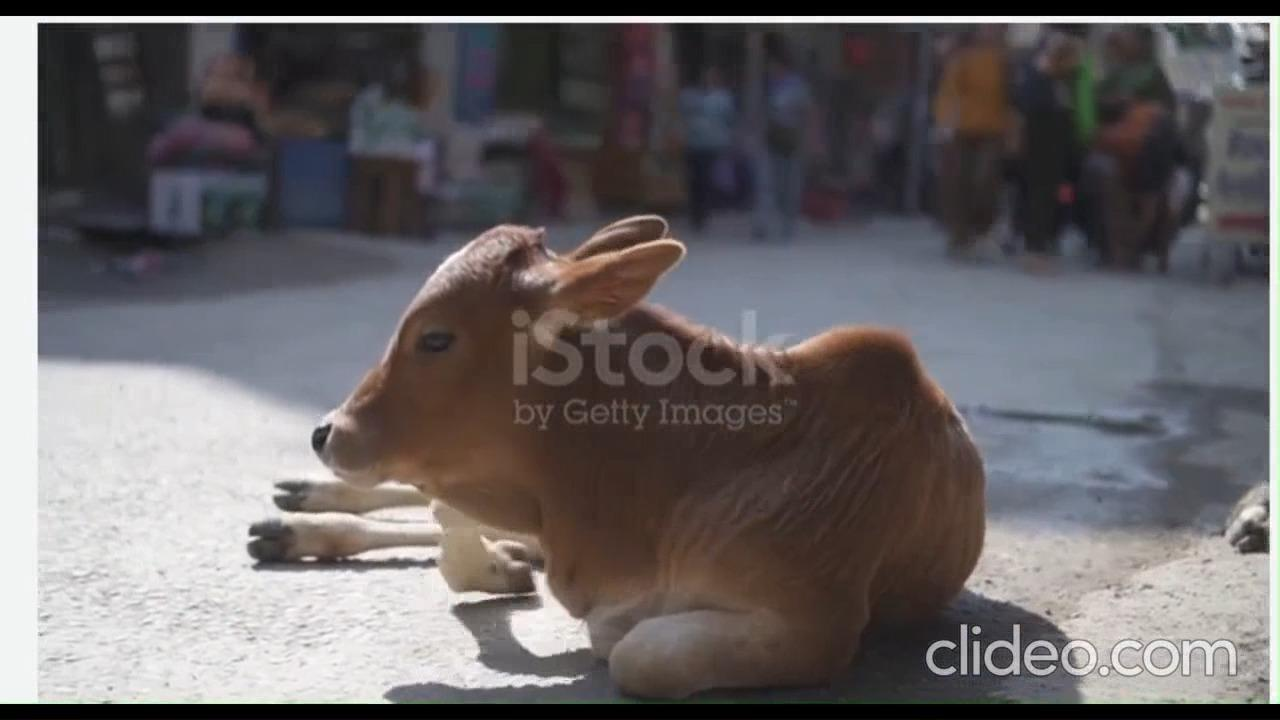Cow: (244, 204, 989, 680)
